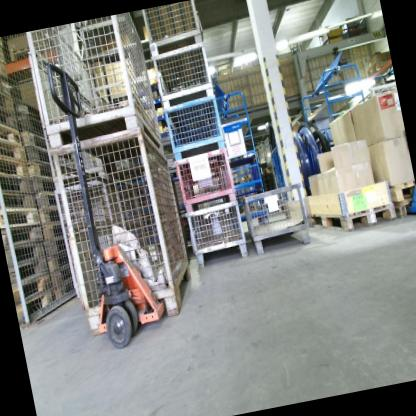pallet: (306, 197, 399, 241), (14, 292, 56, 329), (11, 274, 50, 303), (0, 185, 36, 215), (0, 168, 33, 200), (9, 259, 49, 285), (4, 241, 45, 266), (0, 204, 41, 228), (8, 40, 44, 66), (2, 224, 44, 246), (0, 148, 29, 179), (0, 110, 22, 148), (0, 130, 25, 162), (0, 90, 19, 132), (20, 126, 46, 153), (17, 111, 42, 138), (388, 181, 416, 203), (0, 72, 15, 113), (23, 141, 48, 165), (393, 197, 416, 221), (28, 159, 52, 182), (49, 264, 73, 286), (29, 173, 54, 194), (0, 57, 13, 97), (52, 280, 76, 301), (37, 205, 62, 225), (42, 221, 65, 241), (34, 191, 58, 209), (45, 237, 66, 257), (46, 253, 69, 268)
pallet_truck: (42, 46, 173, 354)
stillage: (50, 125, 201, 339), (24, 10, 167, 181), (51, 172, 159, 309), (141, 0, 217, 90), (239, 182, 314, 258), (172, 145, 239, 215), (151, 41, 217, 110), (184, 203, 252, 269), (162, 95, 229, 160)
